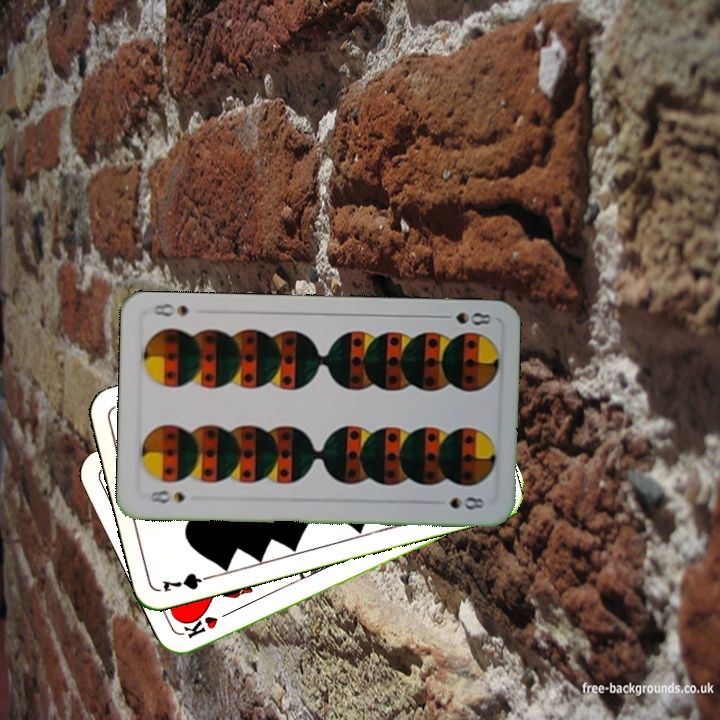G7: (158, 568, 217, 594)
HK: (179, 605, 237, 641)
S8: (435, 308, 494, 328), (141, 486, 187, 506)
